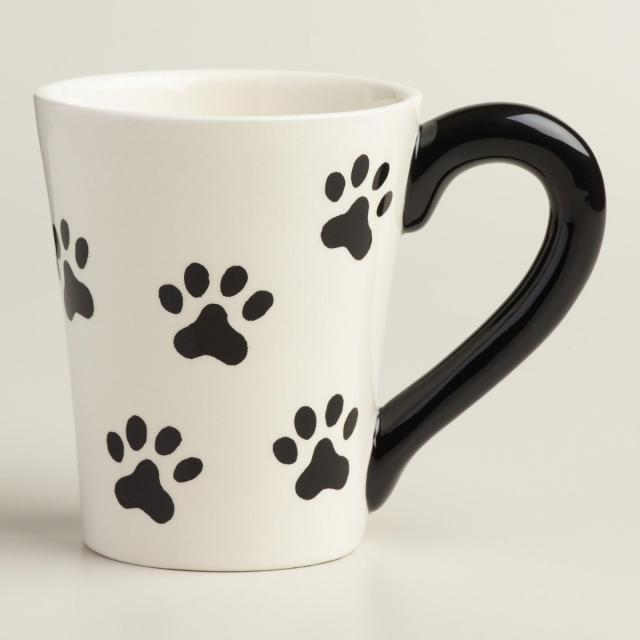glass cup: (35, 70, 608, 574)
